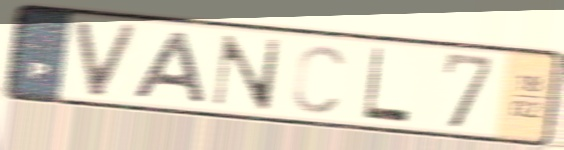7: (439, 50, 494, 130)
A: (127, 28, 212, 106)
C: (289, 41, 348, 116)
L: (359, 44, 413, 126)
N: (208, 32, 286, 113)
V: (71, 17, 143, 100)
